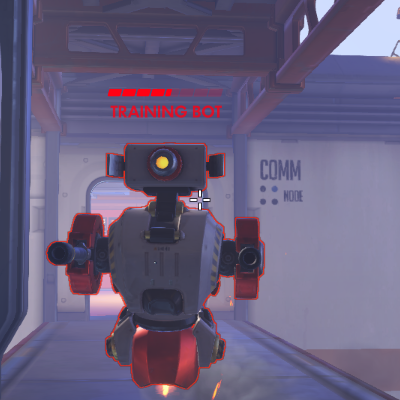hpbar: (107, 88, 223, 97)
